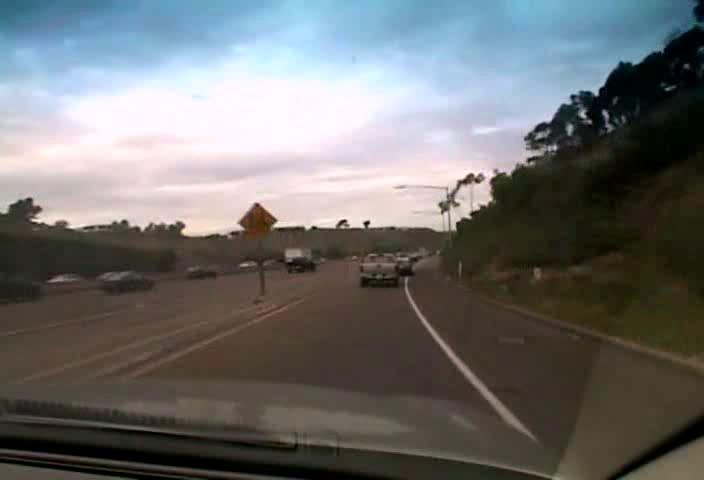addedLane: (237, 202, 277, 241)
